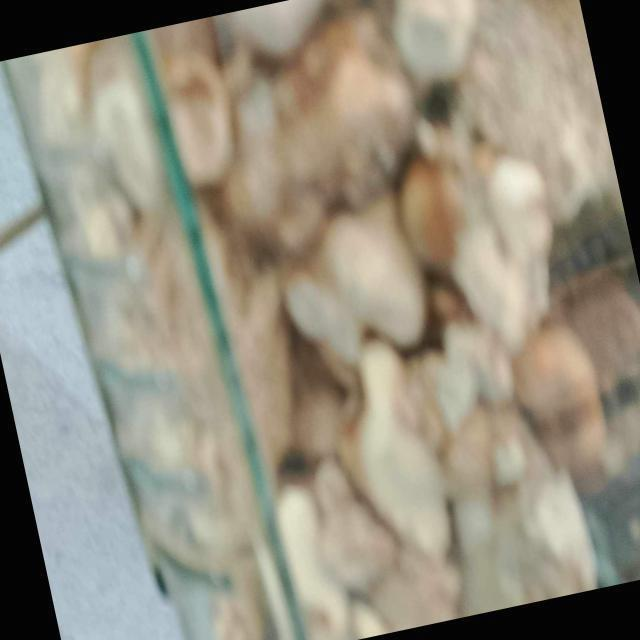General: (9, 1, 637, 638)
Sharps: (125, 29, 310, 638)
